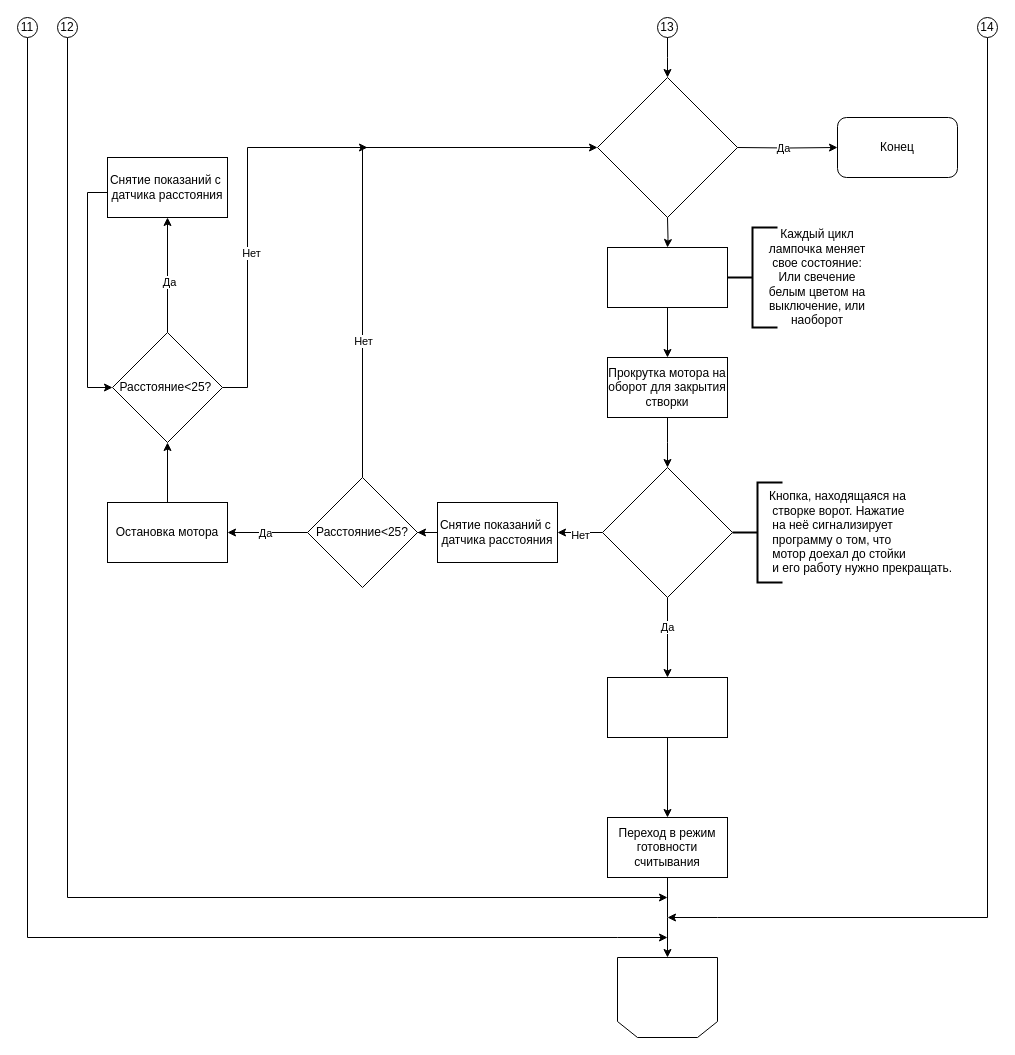
This 1015x1055 diagram has some shape labels left out. Each missing label, with the box of its shape:
Включение красной лампочки светодиодом: (606, 676, 728, 738)
Кнопка аварийного отключения нажата?: (596, 76, 738, 218)
Кнопка остановки мотора нажата?: (602, 466, 732, 598)
Конец цикла: (616, 956, 718, 1038)
Мигание лампочки белым светом: (606, 246, 728, 308)
